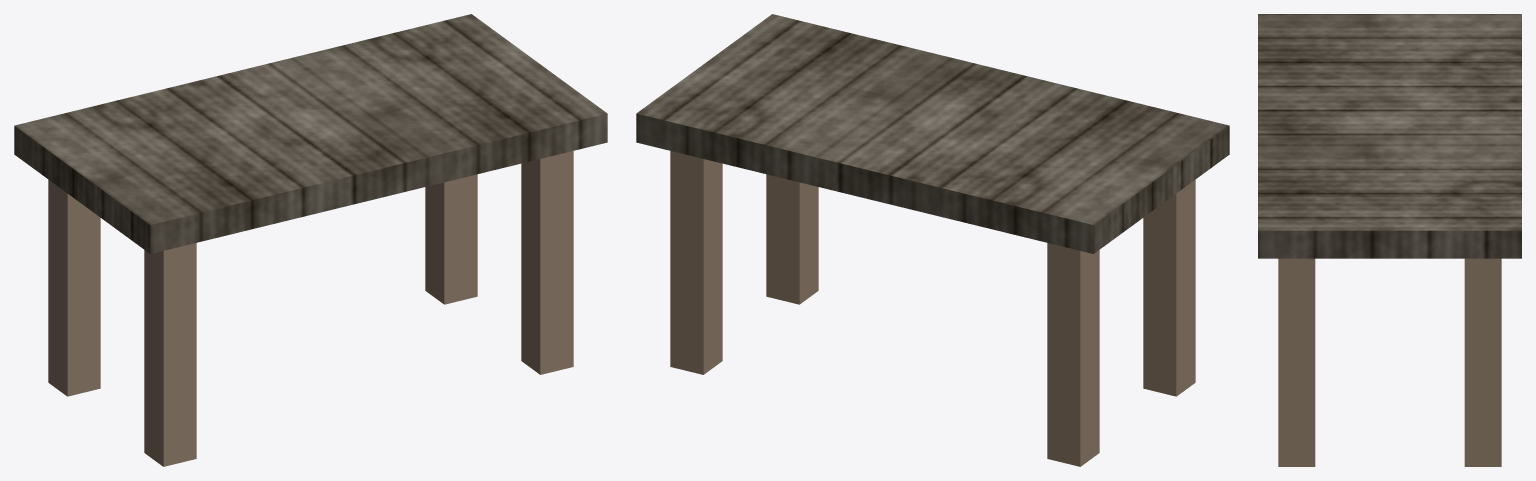
The model's file is turm_tisch_bauer.glb.
3 renders of one model, left to right at view 1: azimuth 30°, elevation 25°; view 2: azimuth 150°, elevation 25°; view 3: azimuth 270°, elevation 25°, orthographic. The views are drawn at different scales.
Parts seen in each view (by area): view 1: turm_tisch_bauer_000, turm_tisch_bauer_002, turm_tisch_bauer_004, turm_tisch_bauer_001, turm_tisch_bauer_003; view 2: turm_tisch_bauer_000, turm_tisch_bauer_001, turm_tisch_bauer_003, turm_tisch_bauer_002, turm_tisch_bauer_004; view 3: turm_tisch_bauer_000, turm_tisch_bauer_003, turm_tisch_bauer_004.
Boxes of the visible parts, bbox=[...] form: turm_tisch_bauer_000: bbox=[14, 14, 607, 253]; turm_tisch_bauer_002: bbox=[144, 243, 196, 466]; turm_tisch_bauer_004: bbox=[521, 151, 573, 374]; turm_tisch_bauer_001: bbox=[48, 179, 100, 396]; turm_tisch_bauer_003: bbox=[425, 174, 477, 304]; turm_tisch_bauer_000: bbox=[636, 14, 1229, 253]; turm_tisch_bauer_001: bbox=[1047, 243, 1099, 466]; turm_tisch_bauer_003: bbox=[670, 151, 722, 374]; turm_tisch_bauer_002: bbox=[1143, 179, 1195, 396]; turm_tisch_bauer_004: bbox=[766, 174, 818, 304]; turm_tisch_bauer_000: bbox=[1258, 14, 1521, 258]; turm_tisch_bauer_003: bbox=[1464, 258, 1501, 466]; turm_tisch_bauer_004: bbox=[1278, 258, 1315, 466].
Bounding box in the file's own units: 1.65 × 0.88 × 0.85.
1 material, 1 textured.
